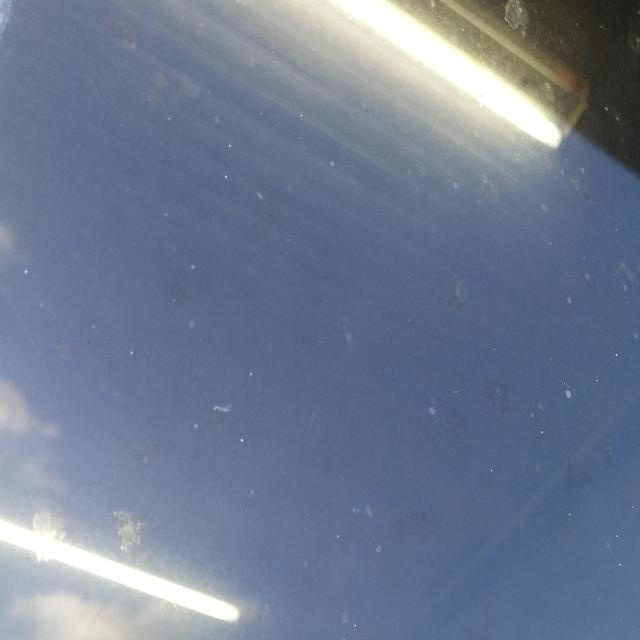fluorescent tube: (206, 0, 584, 174), (0, 501, 265, 632)
